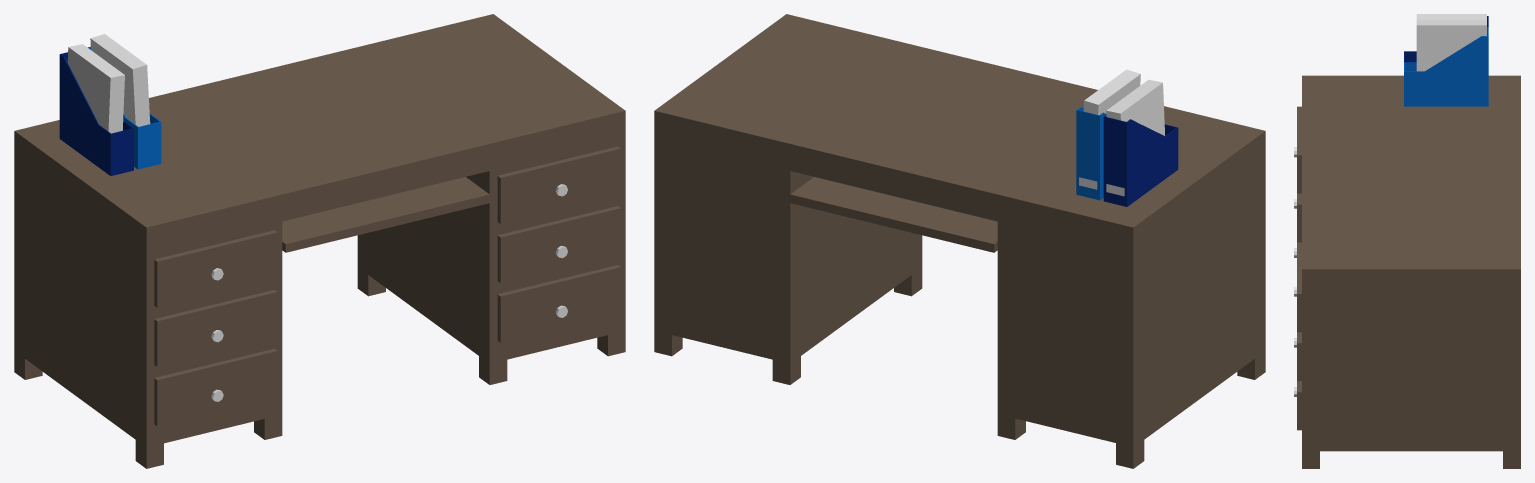
The model's file is bureau_3.fbx.
The picture shows the model from 3 angles, left to right: view 1: azimuth 30°, elevation 25°; view 2: azimuth 150°, elevation 25°; view 3: azimuth 270°, elevation 25°; orthographic projection. The views are drawn at different scales.
Visible parts, largest first — view 1: bureau_3; view 2: bureau_3; view 3: bureau_3.
Part boxes in pixels (x1,y1,x2,y2): bureau_3: [14, 14, 625, 468]; bureau_3: [654, 14, 1265, 468]; bureau_3: [1294, 14, 1520, 468].
Size of the model in its own units: 1.83 by 1.23 by 0.9085.
